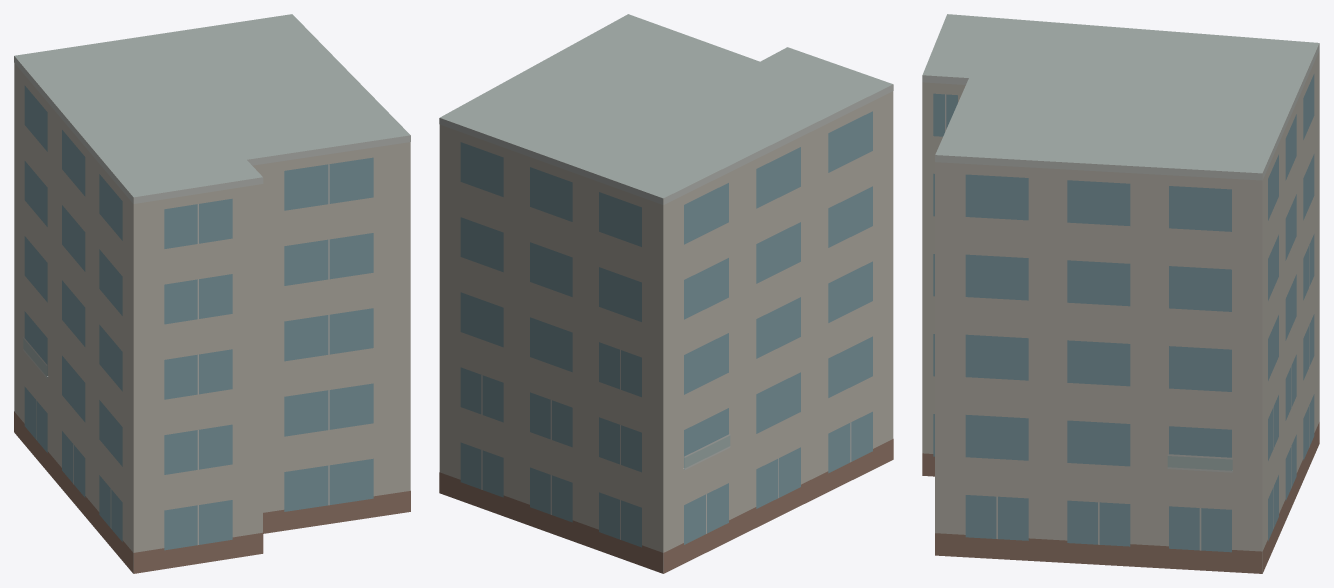
Rendered from survey-upis-32883453.glb.
3 renders of one model, left to right at view 1: azimuth 30°, elevation 25°; view 2: azimuth 150°, elevation 25°; view 3: azimuth 270°, elevation 25°, orthographic. The views are drawn at different scales.
Parts seen in each view (by area): view 1: survey-upis-32883453.tmp; view 2: survey-upis-32883453.tmp; view 3: survey-upis-32883453.tmp.
Boxes of the visible parts, box(x1,y1,x2,y2) form: survey-upis-32883453.tmp: box(14, 14, 410, 573); survey-upis-32883453.tmp: box(439, 14, 893, 573); survey-upis-32883453.tmp: box(922, 14, 1319, 573).
Size of the model in its own units: 11.7 by 13.7 by 12.33.
